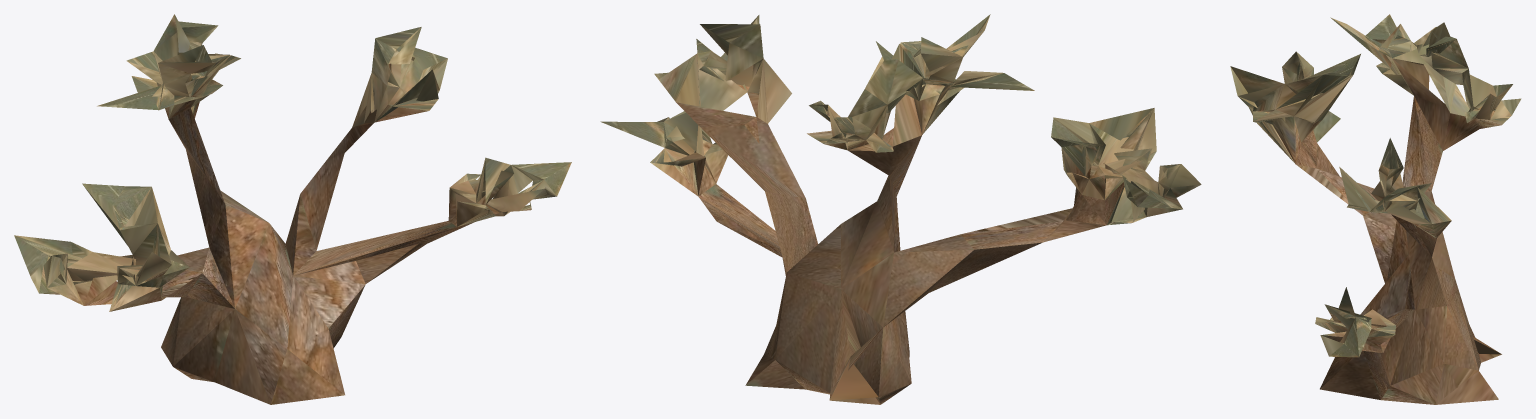
The model's file is de_dustysage_shrub_lod1.glb.
3 views of the same model, side by side, from view 1: azimuth 30°, elevation 25°; view 2: azimuth 150°, elevation 25°; view 3: azimuth 270°, elevation 25° (orthographic). The views are drawn at different scales.
Parts seen in each view (by area): view 1: mesh; view 2: mesh; view 3: mesh.
Part boxes in pixels (bbox=[...]): mesh: bbox=[14, 14, 571, 404]; mesh: bbox=[600, 14, 1201, 404]; mesh: bbox=[1230, 14, 1521, 404].
Bounding box in the file's own units: 1.7 × 1.06 × 0.8328.
1 material, 1 textured.
